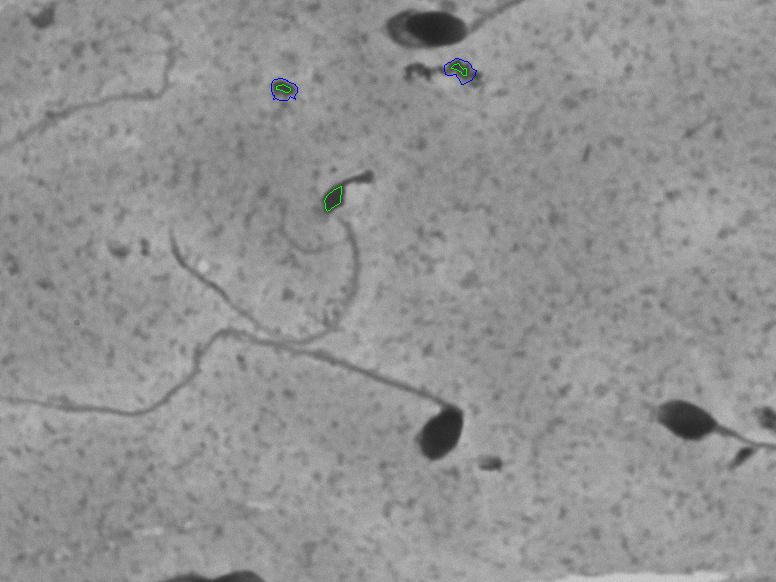Abnormal: (4, 315, 489, 474)
